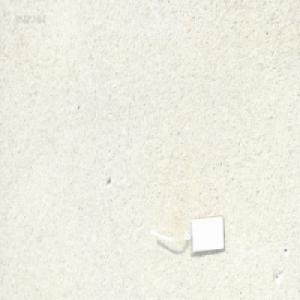LuggageTag: (147, 211, 224, 254)
